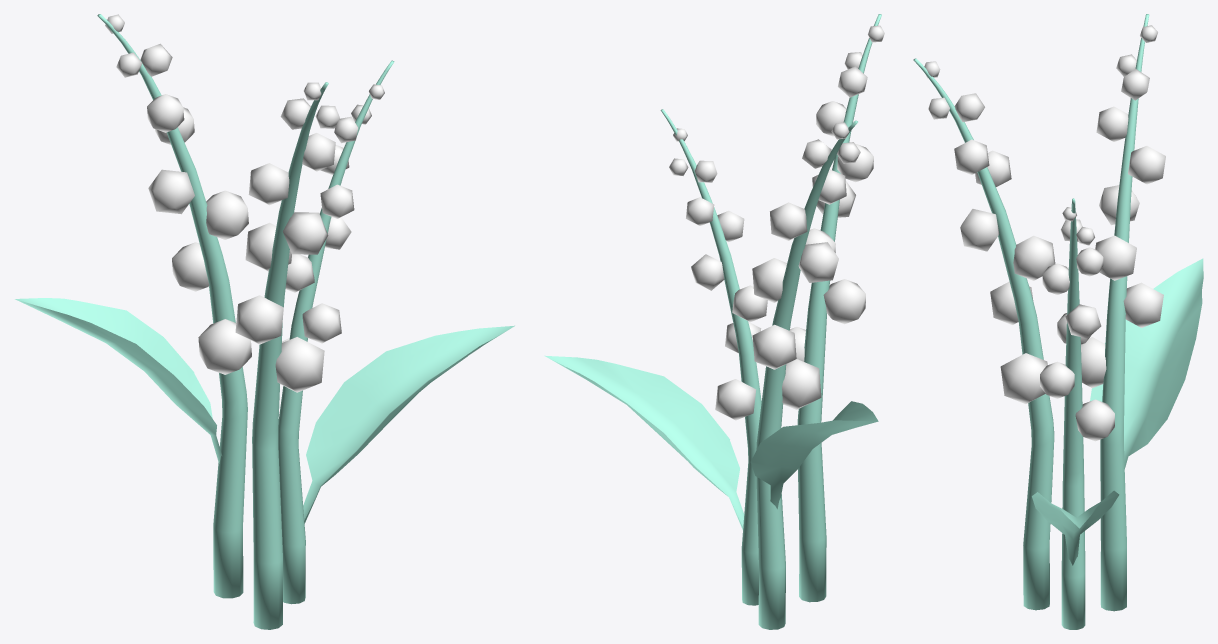
The model's file is mughetto2.fbx.
The picture shows the model from 3 angles, left to right: view 1: azimuth 30°, elevation 25°; view 2: azimuth 150°, elevation 25°; view 3: azimuth 270°, elevation 25°; orthographic projection. The views are drawn at different scales.
Visible parts, largest first — view 1: Plane.001, Icosphere.002; view 2: Plane.001, Icosphere.002; view 3: Plane.001, Icosphere.002.
Boxes of the visible parts, x1,y1,x2,y2 form: Plane.001: (15,14,514,629); Icosphere.002: (105,14,384,392); Plane.001: (544,14,881,629); Icosphere.002: (669,25,884,420); Plane.001: (913,14,1203,629); Icosphere.002: (924,25,1165,441).
Size of the model in its own units: 95.77 by 125 by 60.53.
